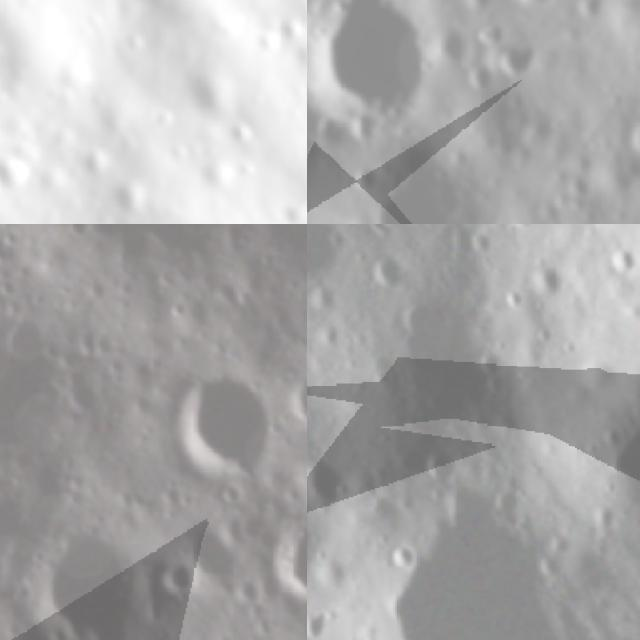crater: (322, 440, 611, 640), (307, 0, 465, 148), (31, 523, 140, 640), (164, 366, 277, 474), (0, 298, 48, 478), (307, 224, 376, 314), (307, 438, 368, 522), (263, 499, 307, 607), (409, 428, 472, 497), (180, 516, 242, 586), (93, 159, 159, 224), (372, 524, 433, 588), (358, 246, 420, 307), (1, 309, 61, 368), (518, 253, 573, 314), (494, 37, 552, 93), (307, 500, 340, 587), (61, 372, 109, 423), (153, 556, 200, 603), (307, 592, 351, 640), (490, 224, 561, 249), (285, 368, 307, 442), (512, 0, 576, 18), (468, 58, 497, 94), (315, 632, 416, 640), (624, 111, 640, 158), (62, 224, 90, 241), (185, 628, 222, 640)
